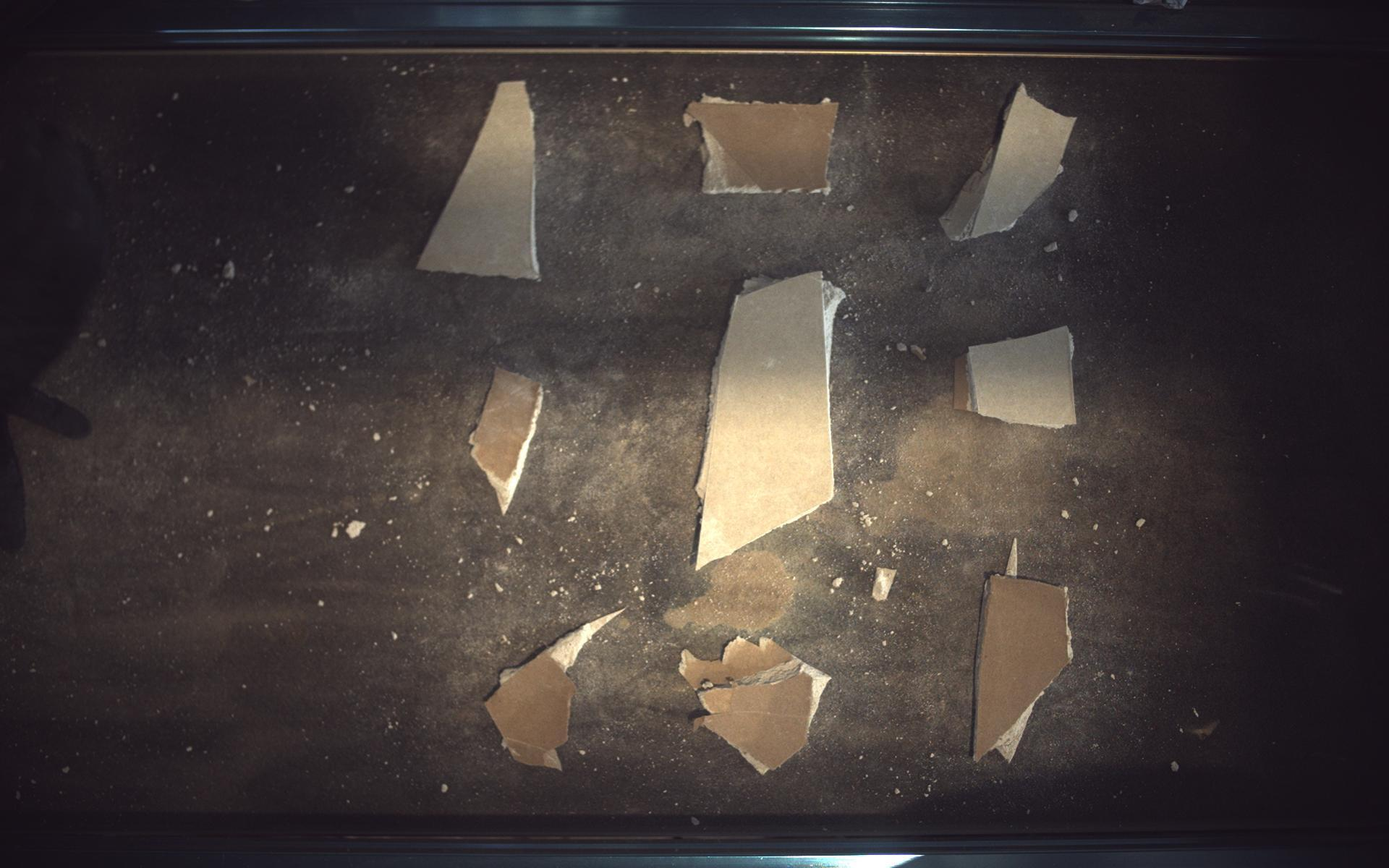gypsum_board: (697, 271, 846, 571), (417, 80, 540, 279), (975, 539, 1075, 762), (485, 610, 624, 770), (941, 82, 1078, 240), (680, 638, 831, 775), (684, 95, 840, 192), (956, 326, 1079, 428), (470, 368, 543, 514)
